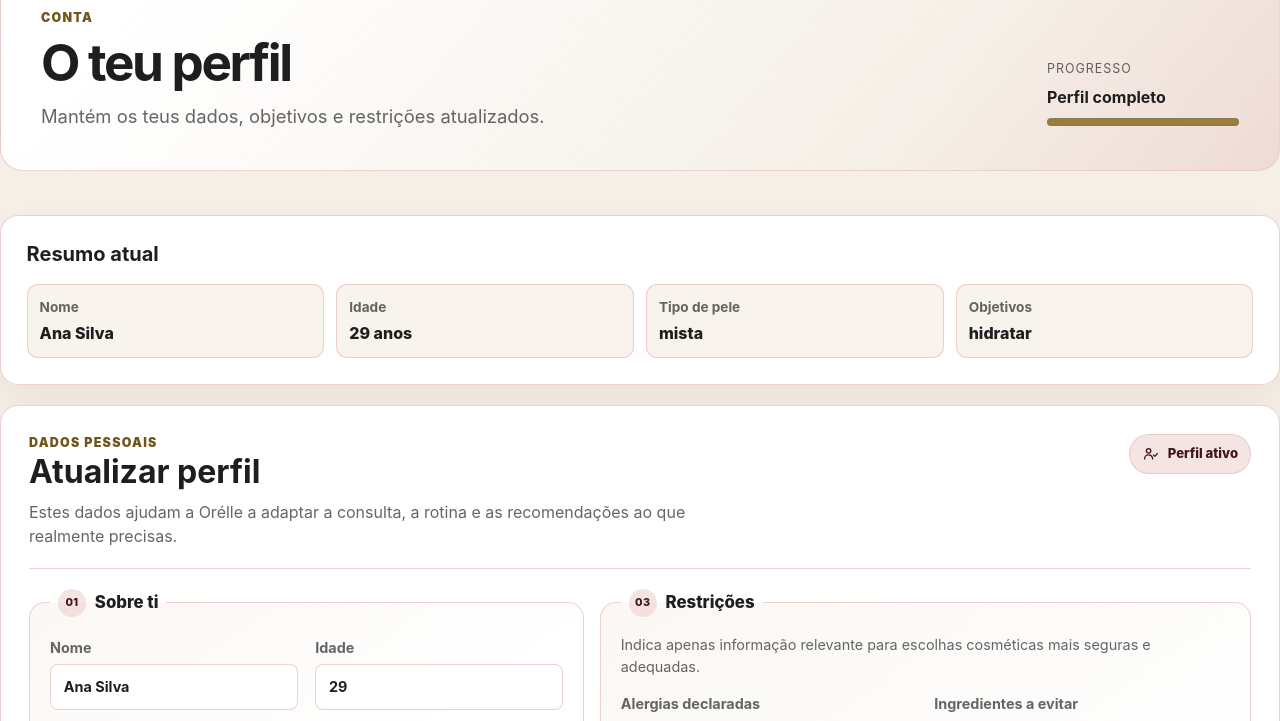
Test: ProfileSetupPage › mostra o resumo existente e guarda alterações por PUT
Expected: the heading "Resumo atual" is shown, [27,242,159,267]
Replace the text in the field labelled "Nome" with "Ana Costa" at (174, 687), box [50,664,298,710]
(page scrolled)
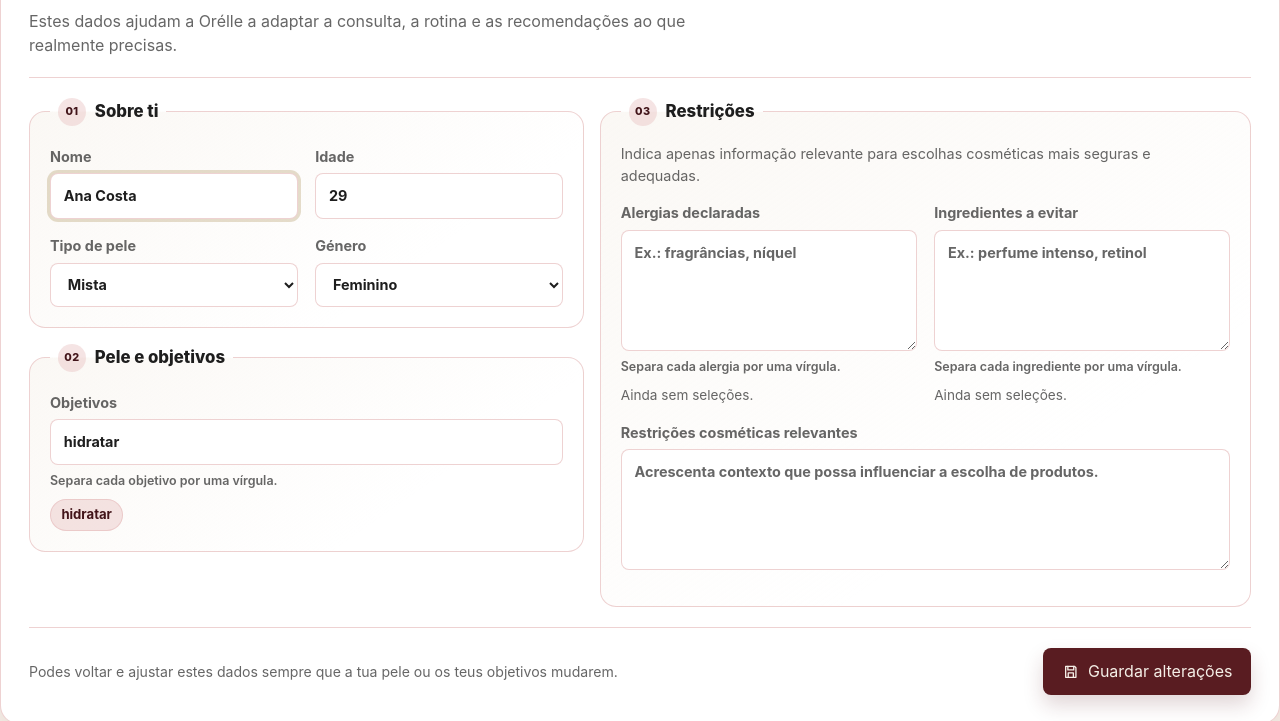
Click the button "Guardar alterações" at (1147, 672), box [1043,648,1251,695]
(page scrolled)
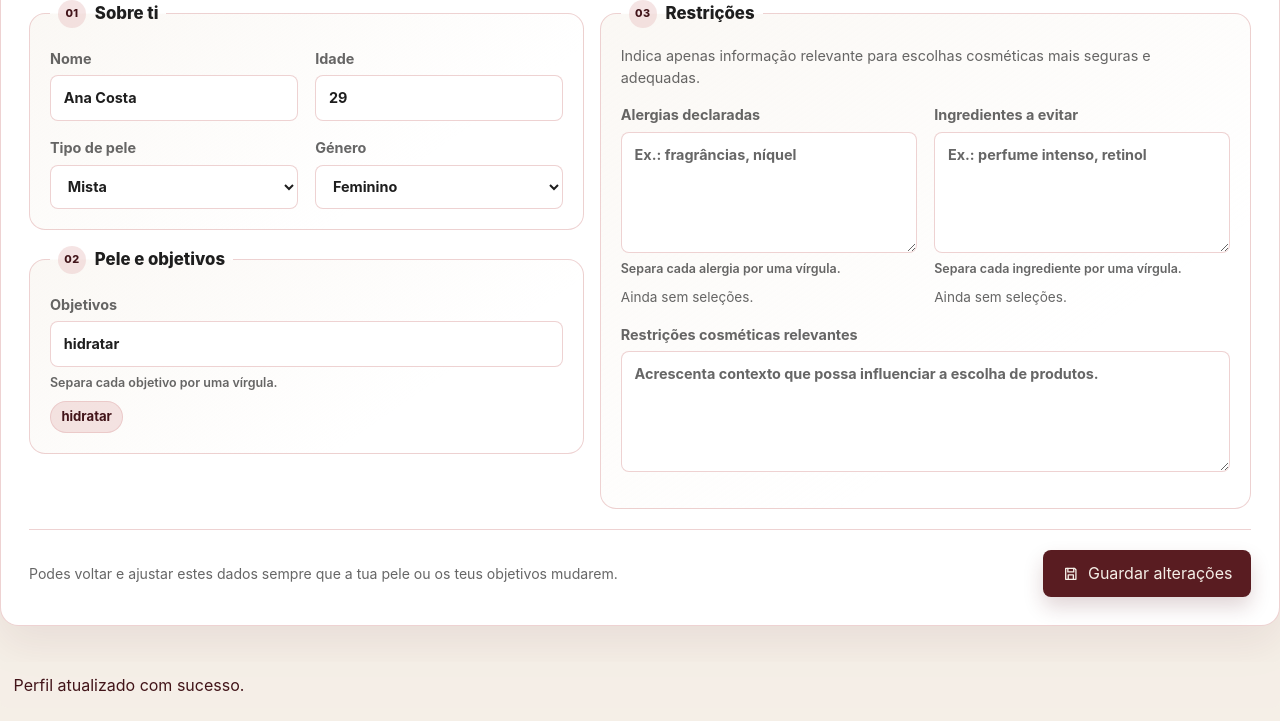
Result: the text "Perfil atualizado com sucesso." is shown at [0,662,1279,708]
